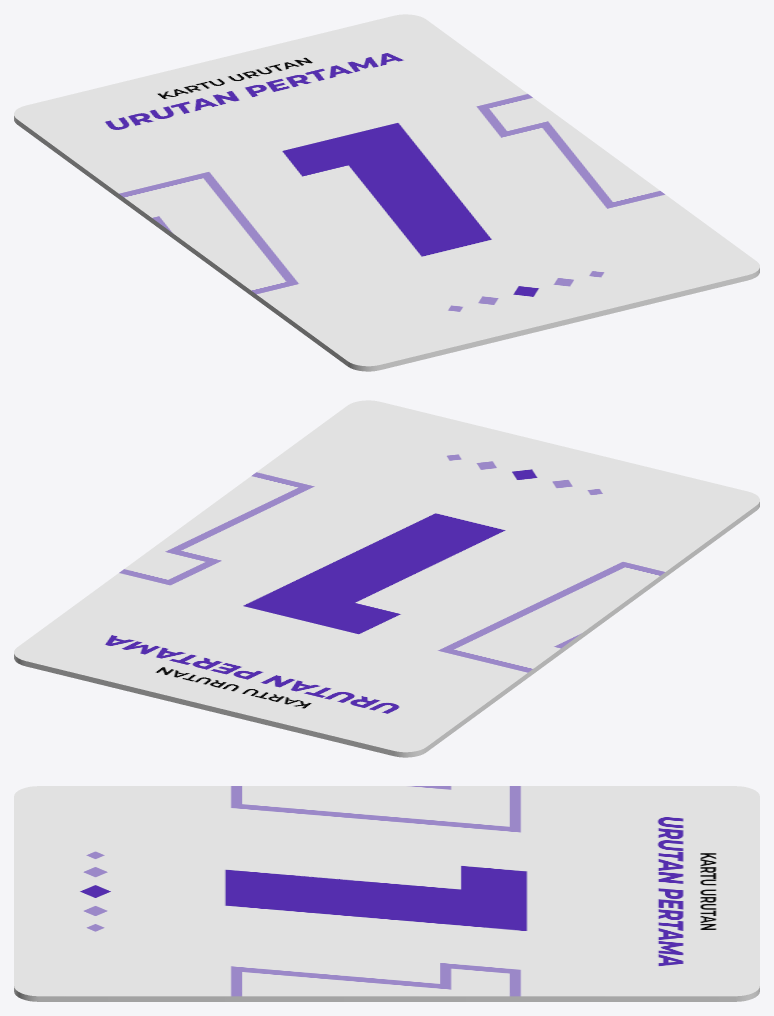
Rendered from p-card.fbx.
3 views of the same model, one above another, from view 1: azimuth 30°, elevation 25°; view 2: azimuth 150°, elevation 25°; view 3: azimuth 270°, elevation 25° (orthographic). The views are drawn at different scales.
Visible parts, largest first — view 1: Cube; view 2: Cube; view 3: Cube.
Boxes of the visible parts, x1,y1,x2,y2 form: Cube: (14, 14, 759, 371); Cube: (14, 400, 759, 757); Cube: (14, 786, 759, 1001).
Size of the model in its own units: 40 by 0.5 by 60.
